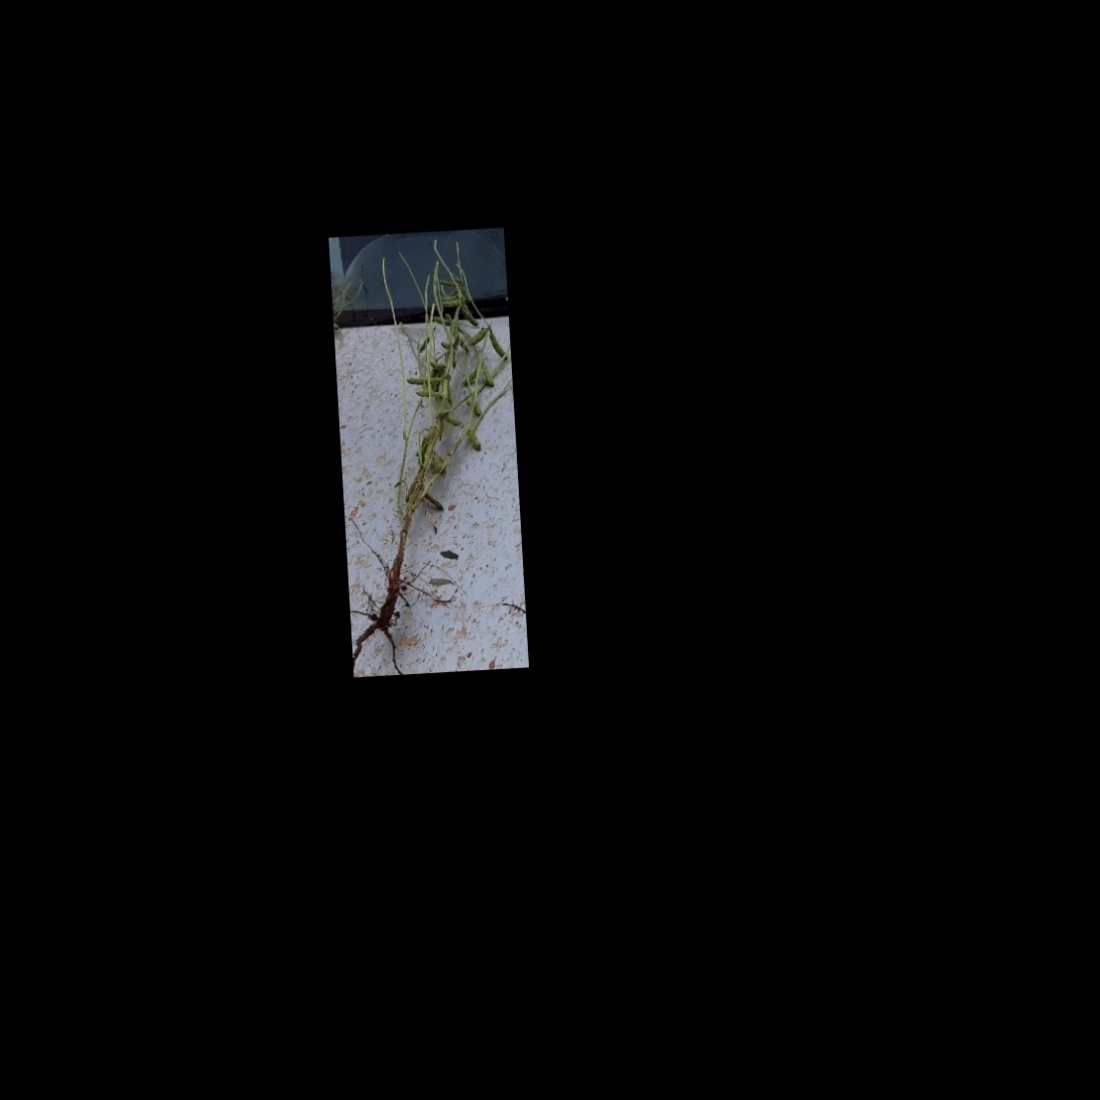pod: (422, 490, 449, 515), (478, 358, 497, 392), (488, 329, 507, 362), (463, 324, 490, 347), (467, 428, 483, 453), (440, 298, 465, 309)
soy: (334, 240, 524, 654)
